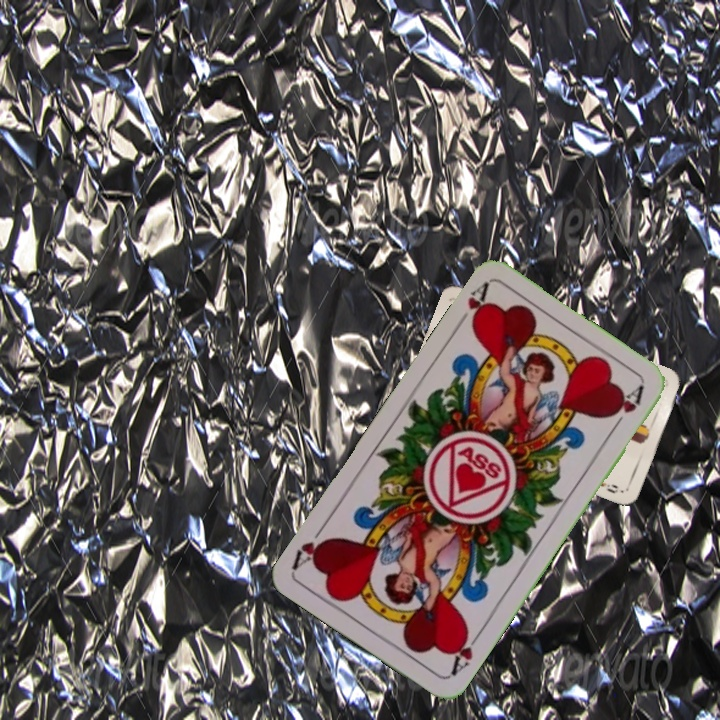HA: (451, 279, 493, 331), (446, 625, 485, 679)
